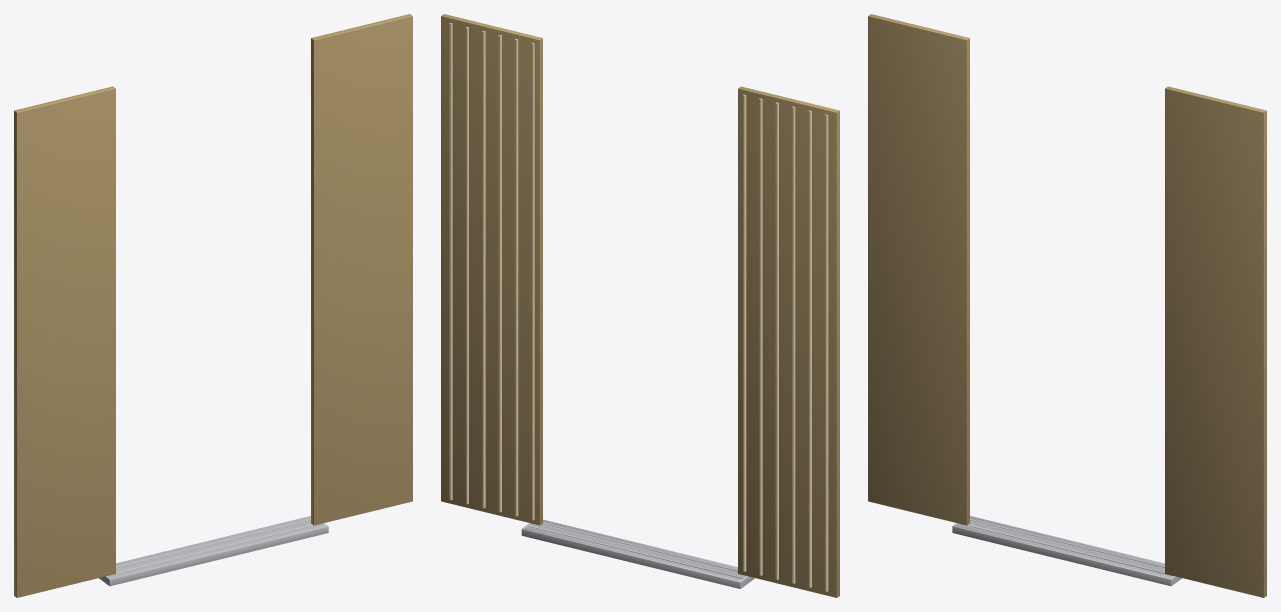
The model's file is cabin_door_TM021.glb.
3 views of the same model, side by side, from view 1: azimuth 30°, elevation 25°; view 2: azimuth 150°, elevation 25°; view 3: azimuth 330°, elevation 25° (orthographic).
Visible parts, largest first — view 1: Car_Door_L, Car_Door_R, Door_Sill; view 2: Car_Door_L, Car_Door_R, Door_Sill; view 3: Car_Door_L, Car_Door_R, Door_Sill.
Boxes of the visible parts, x1=… form: Car_Door_L: x1=14, y1=86, x2=115, y2=597; Car_Door_R: x1=311, y1=14, x2=412, y2=525; Door_Sill: x1=98, y1=516, x2=328, y2=586; Car_Door_L: x1=738, y1=86, x2=839, y2=597; Car_Door_R: x1=441, y1=14, x2=542, y2=525; Door_Sill: x1=521, y1=519, x2=754, y2=588; Car_Door_L: x1=868, y1=14, x2=969, y2=525; Car_Door_R: x1=1165, y1=86, x2=1266, y2=597; Door_Sill: x1=952, y1=516, x2=1182, y2=586.
Size of the model in its own units: 1.81 by 2.15 by 0.12.
